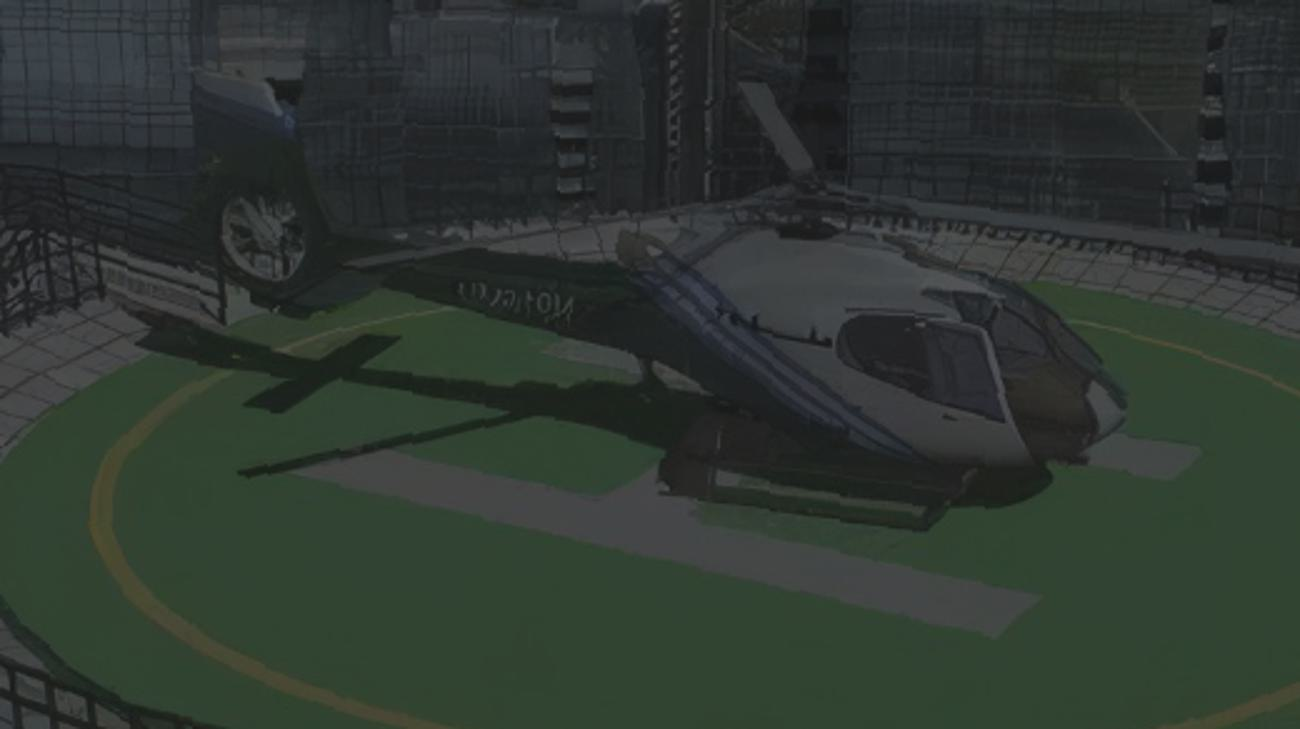Apron: (78, 257, 1300, 729)
